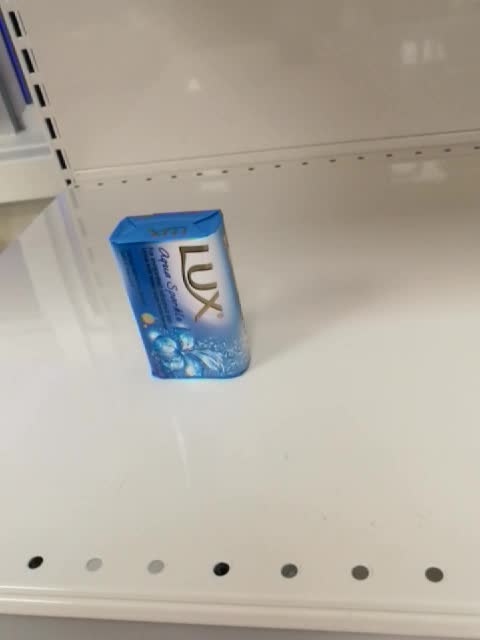soap: (107, 208, 254, 383)
